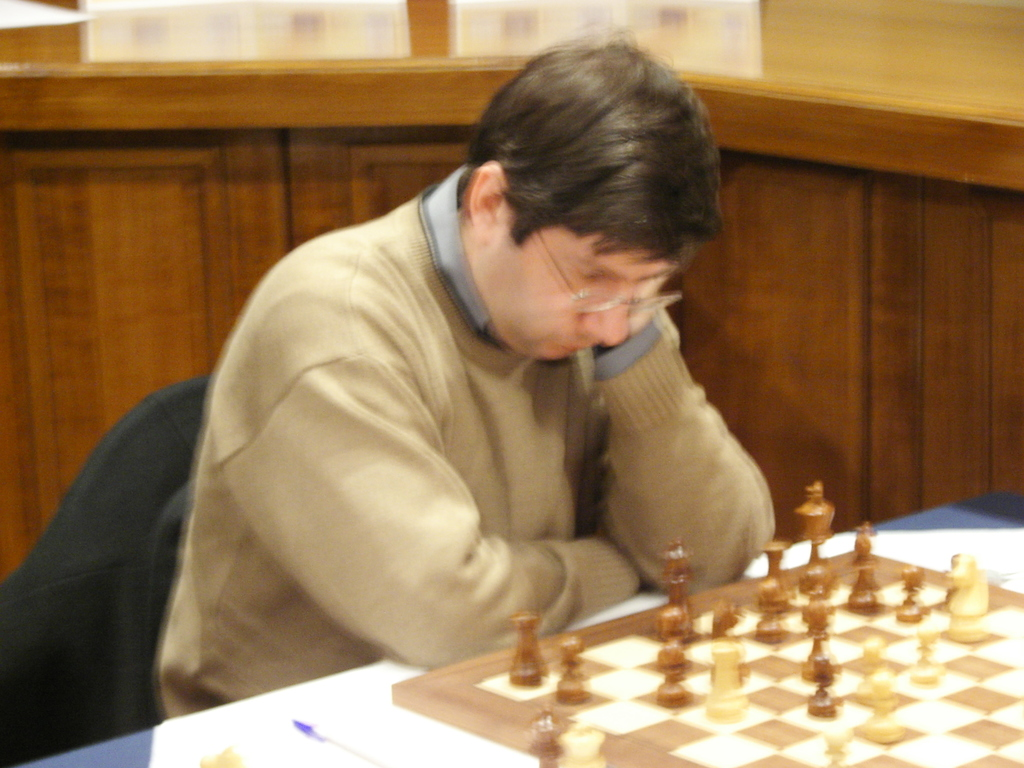Person: (156, 25, 775, 717)
